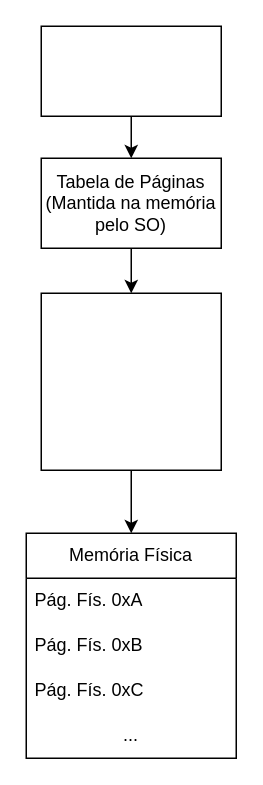
The diagram is 263 pixels wide and 785 high, and some of its shapes have lost their labels. Each missing label, with the centre of its shape:
"Processo Endereço Lógico 0x1234" goes at (130,70).
"Índice | Pág. Fís. --------|------------ 0x1 | 0xA 0x2 | 0xB 0x3 | 0xC ... | ..." goes at (130,381).
